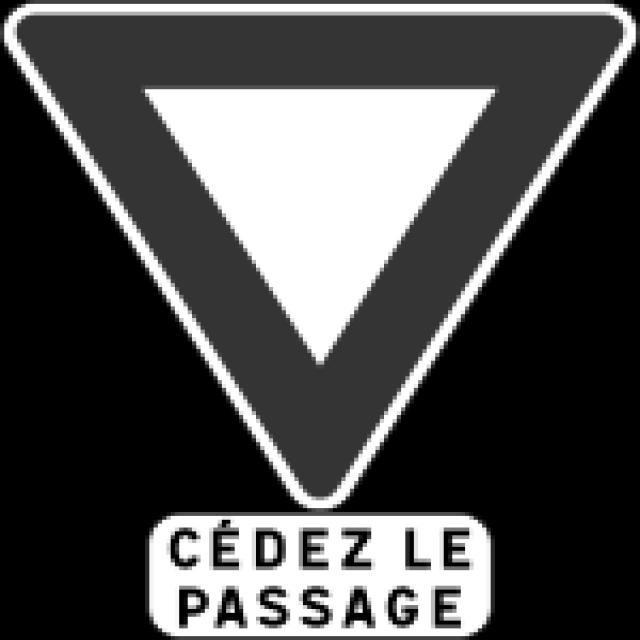let_go: (2, 0, 640, 640), (2, 0, 640, 513)
